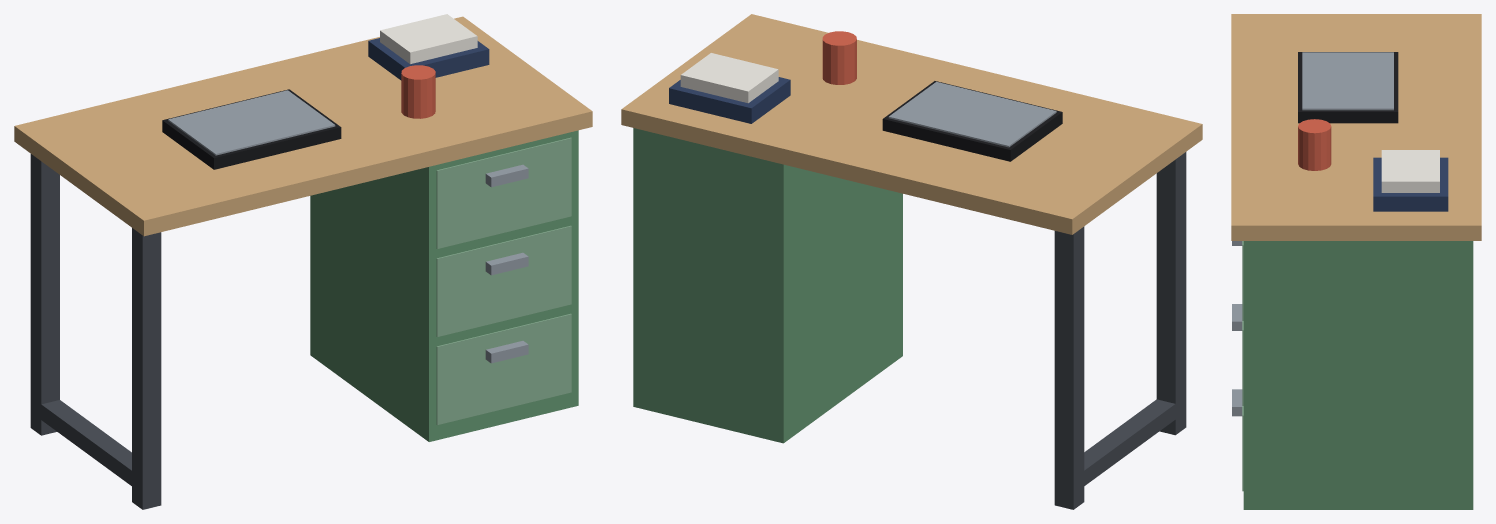
File: desk.glb
The picture shows the model from 3 angles, left to right: view 1: azimuth 30°, elevation 25°; view 2: azimuth 150°, elevation 25°; view 3: azimuth 270°, elevation 25°; orthographic projection. The views are drawn at different scales.
Parts seen in each view (by area): view 1: desk_Body; view 2: desk_Body; view 3: desk_Body.
Part boxes in pixels (bbox=[...]): desk_Body: bbox=[14, 14, 592, 509]; desk_Body: bbox=[621, 14, 1202, 509]; desk_Body: bbox=[1231, 14, 1481, 509].
Bounding box in the file's own units: 1.2 × 0.86 × 0.6.
